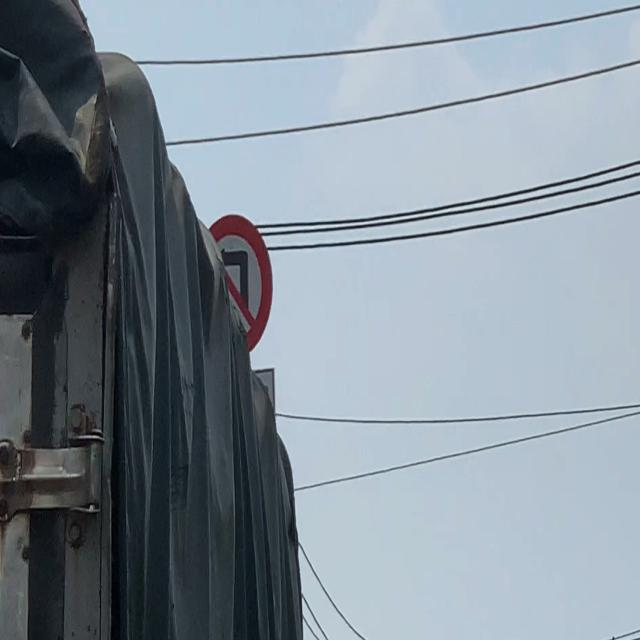Cam re trai: (205, 211, 273, 352)
